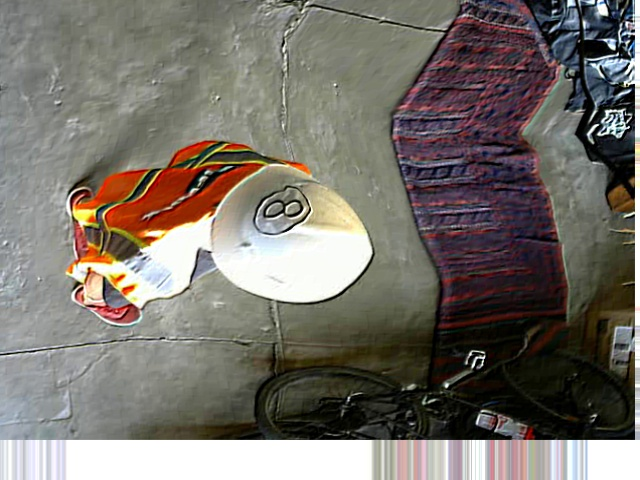eight: (248, 183, 305, 236)
